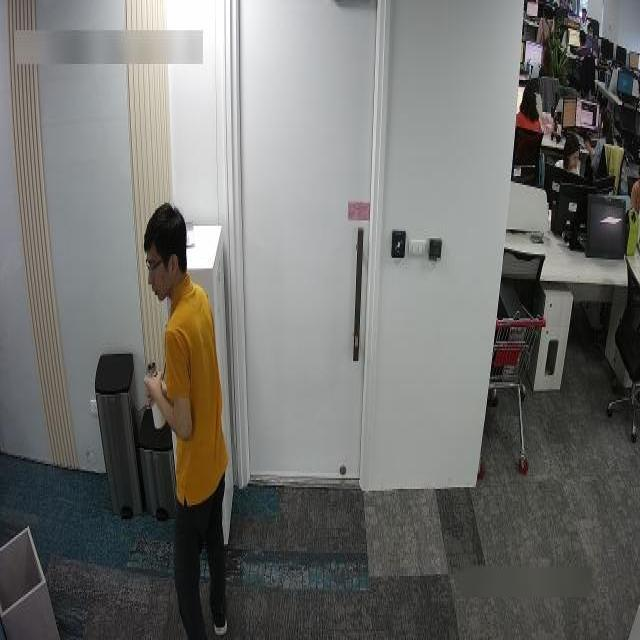bare_hand: (143, 359, 170, 416)
